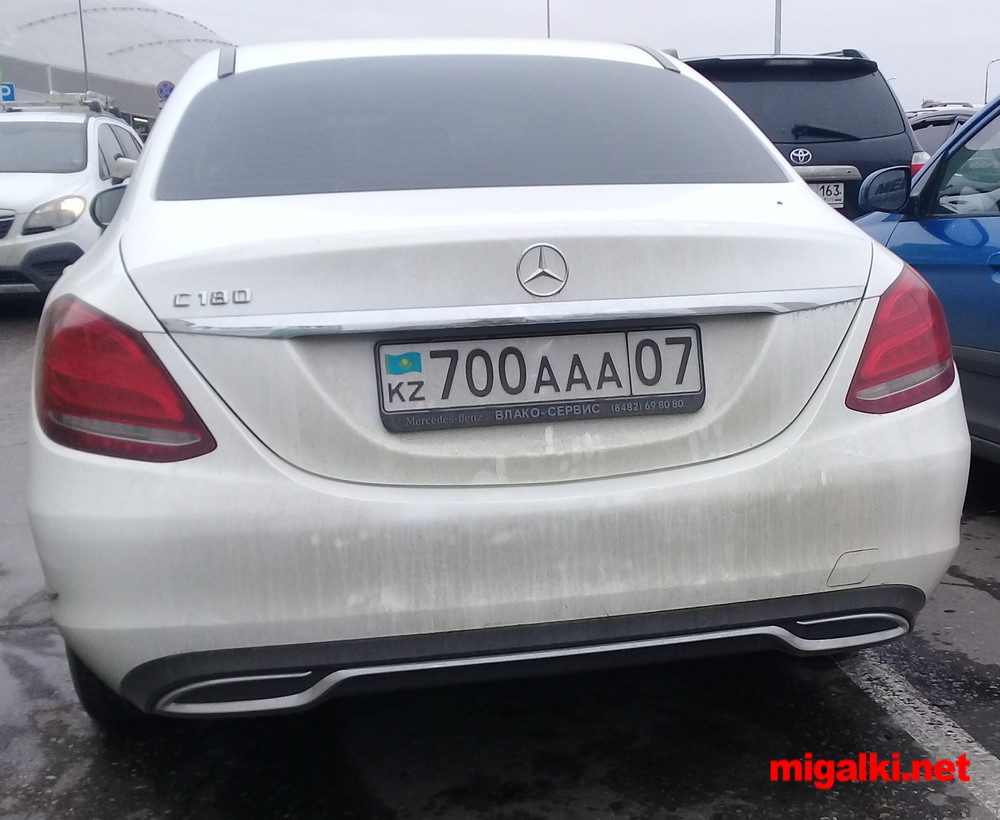license_plate: (377, 335, 710, 409)
